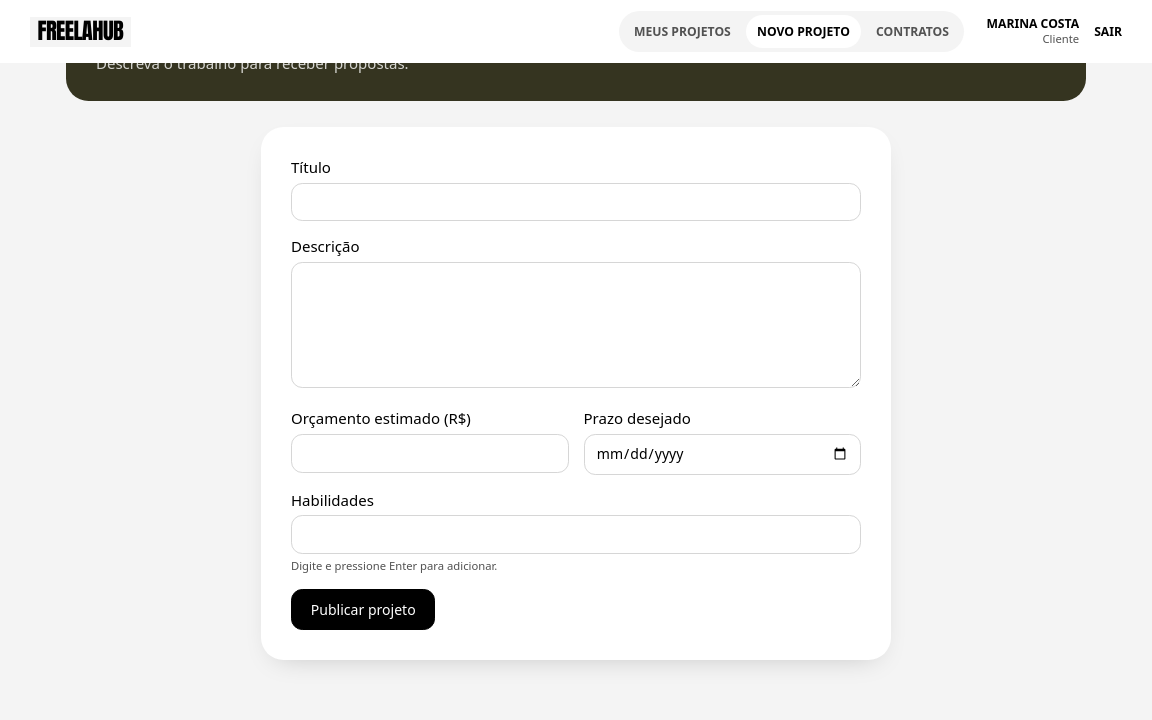
Scenario: formulário de novo projeto › mostra as validações obrigatórias
(page scrolled)
Click the button "Publicar projeto": (363, 610) [291,589,435,630]
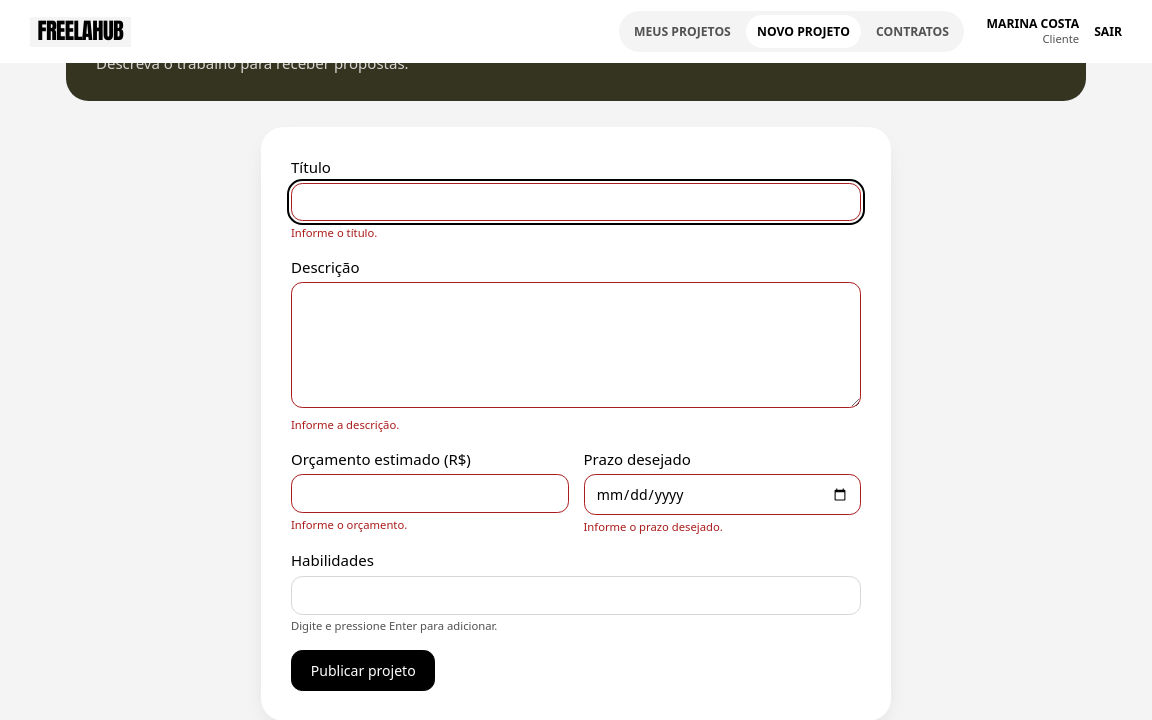
Expected: the text "Informe o título." is shown, [291,225,377,240]
Expected: the text "Informe a descrição." is shown, [291,417,399,432]
Expected: the text "Informe o orçamento." is shown, [291,517,407,532]
